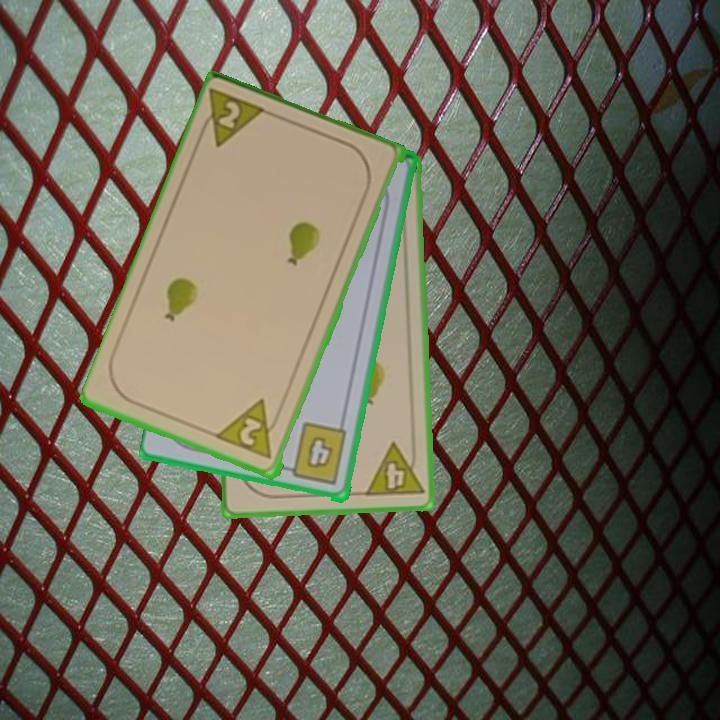2p: (194, 86, 272, 152), (214, 396, 284, 464)
4b: (279, 420, 350, 489)
4p: (361, 439, 426, 500)
